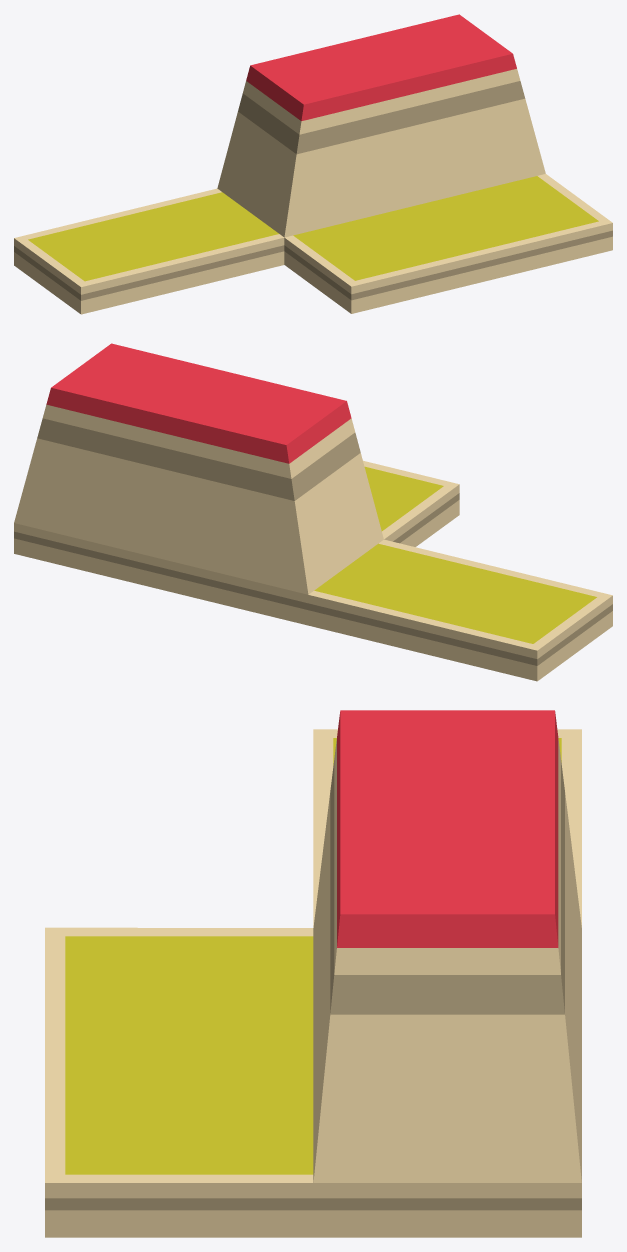
File: House_4.fbx
3 renders of one model, top to bottom at view 1: azimuth 30°, elevation 25°; view 2: azimuth 150°, elevation 25°; view 3: azimuth 270°, elevation 25°, orthographic. The views are drawn at different scales.
Visible parts, largest first — view 1: House_4; view 2: House_4; view 3: House_4.
Boxes of the visible parts, x1=… form: House_4: x1=14, y1=14, x2=612, y2=314; House_4: x1=14, y1=343, x2=612, y2=681; House_4: x1=45, y1=710, x2=581, y2=1237.
Bounding box in the file's own units: 600 × 184 × 300.
